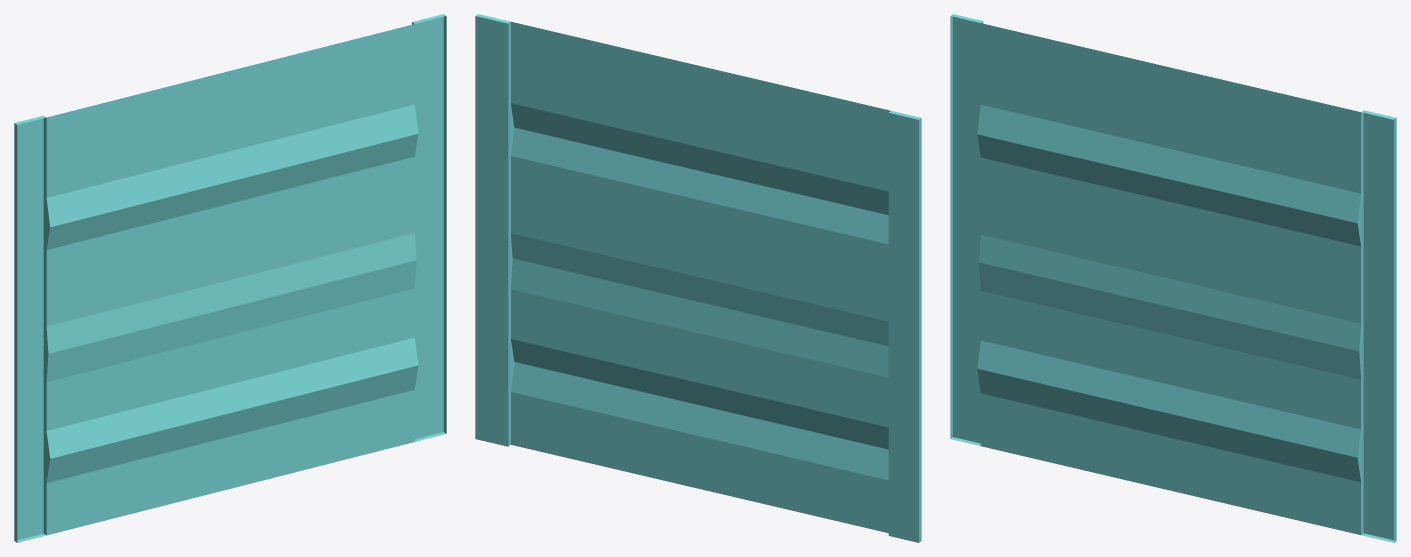
Rendered from muur 1 achterkant.fbx.
3 renders of one model, left to right at view 1: azimuth 30°, elevation 25°; view 2: azimuth 150°, elevation 25°; view 3: azimuth 330°, elevation 25°, orthographic.
Visible parts, largest first — view 1: korte muur.002; view 2: korte muur.002; view 3: korte muur.002.
Boxes of the visible parts, left/top/right/bottom form: korte muur.002: left=14, top=14, right=446, bottom=542; korte muur.002: left=475, top=14, right=921, bottom=542; korte muur.002: left=950, top=14, right=1396, bottom=542.
Size of the model in its own units: 3.05 by 2.8 by 0.1257.
